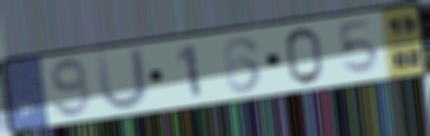0: (283, 25, 326, 87)
1: (173, 42, 205, 99)
5: (333, 17, 383, 77)
6: (220, 34, 264, 97)
9: (49, 55, 94, 122)
U: (92, 45, 152, 113)
